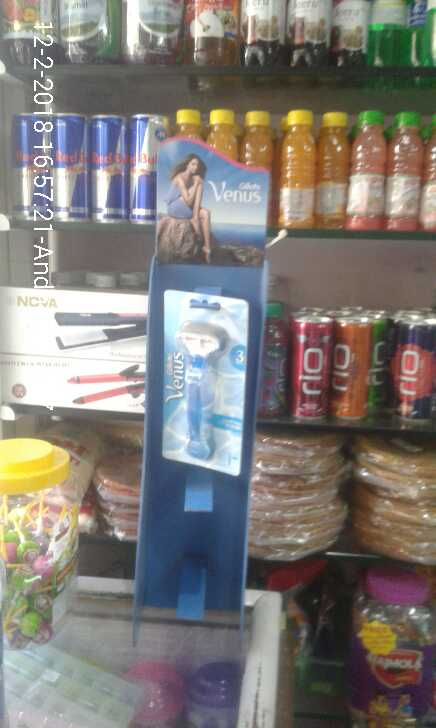venus: (156, 284, 246, 476)
